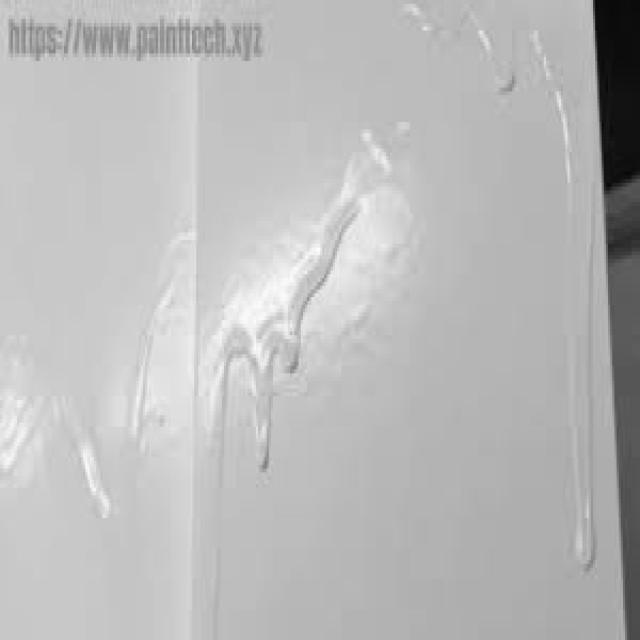paint drips: (198, 184, 366, 640), (534, 13, 604, 587), (2, 342, 116, 553), (121, 207, 196, 471), (395, 0, 533, 107)
